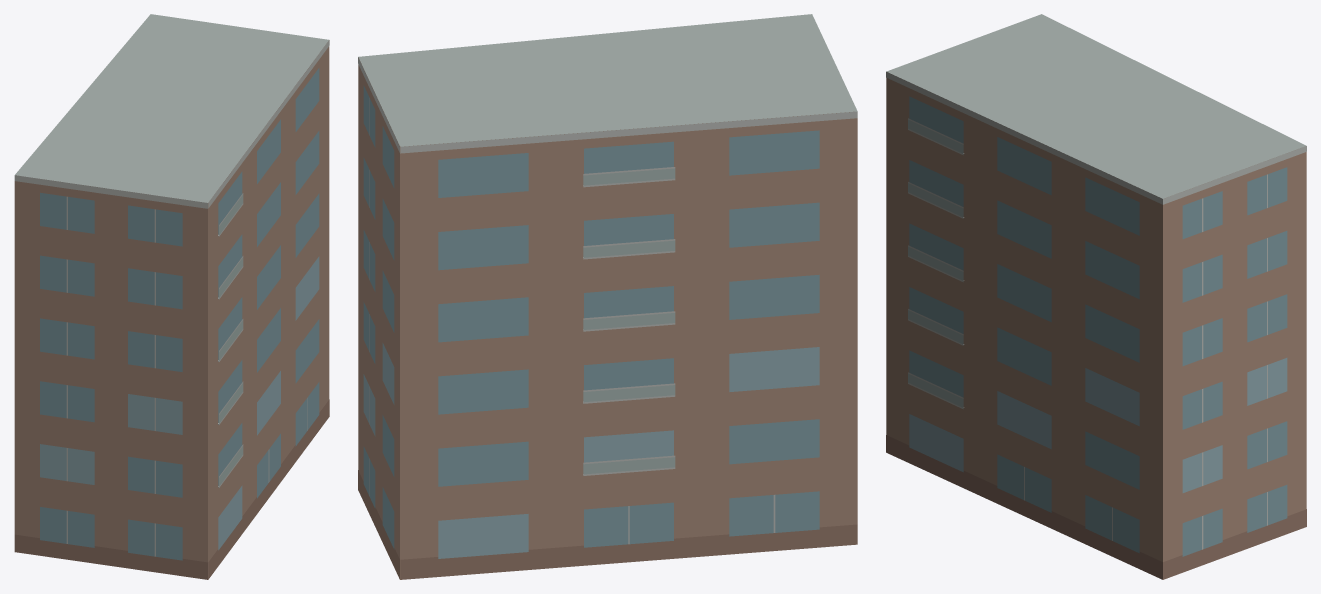
Rendered from survey-upis-32882471.glb.
3 renders of one model, left to right at view 1: azimuth 30°, elevation 25°; view 2: azimuth 150°, elevation 25°; view 3: azimuth 270°, elevation 25°, orthographic. The views are drawn at different scales.
Parts seen in each view (by area): view 1: survey-upis-32882471.tmp; view 2: survey-upis-32882471.tmp; view 3: survey-upis-32882471.tmp.
Boxes of the visible parts, x1,y1,x2,y2 form: survey-upis-32882471.tmp: [14, 14, 329, 579]; survey-upis-32882471.tmp: [358, 14, 857, 579]; survey-upis-32882471.tmp: [886, 14, 1306, 579].
Size of the model in its own units: 16.24 by 15.6 by 15.61.
